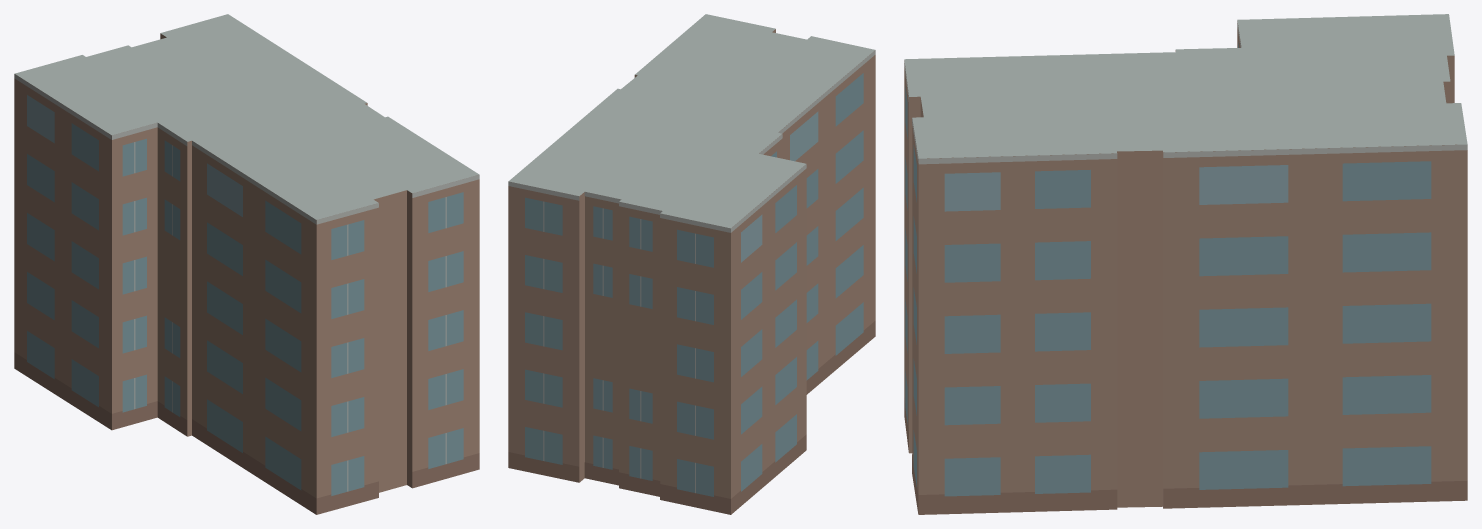
Rendered from survey-upis-32697503.glb.
The picture shows the model from 3 angles, left to right: view 1: azimuth 30°, elevation 25°; view 2: azimuth 150°, elevation 25°; view 3: azimuth 270°, elevation 25°; orthographic projection. The views are drawn at different scales.
Visible parts, largest first — view 1: survey-upis-32697503.tmp; view 2: survey-upis-32697503.tmp; view 3: survey-upis-32697503.tmp.
Part boxes in pixels (x1,y1,x2,y2): survey-upis-32697503.tmp: (14, 14, 479, 514); survey-upis-32697503.tmp: (508, 14, 875, 514); survey-upis-32697503.tmp: (904, 14, 1467, 514).
Bounding box in the file's own units: 13.34 × 15.3 × 21.94.
